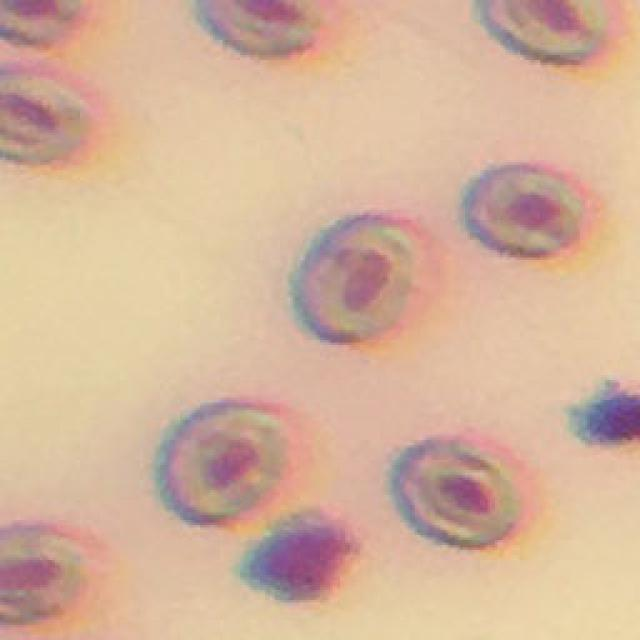RBC: (290, 215, 442, 344), (158, 402, 292, 524), (392, 440, 520, 548), (464, 165, 585, 258), (0, 60, 100, 165), (475, 0, 610, 64), (0, 525, 82, 626), (195, 0, 320, 55)
WBC: (240, 512, 360, 602), (572, 394, 640, 445)
